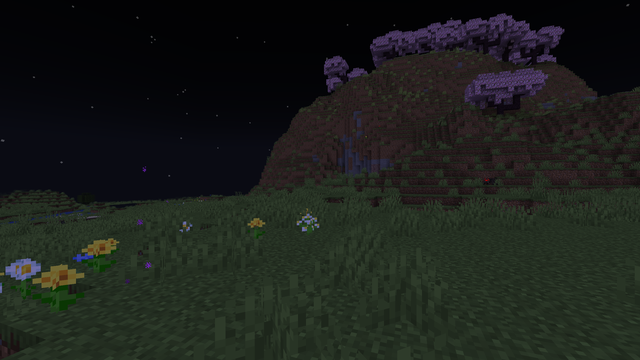araignees: (481, 177, 498, 184)
